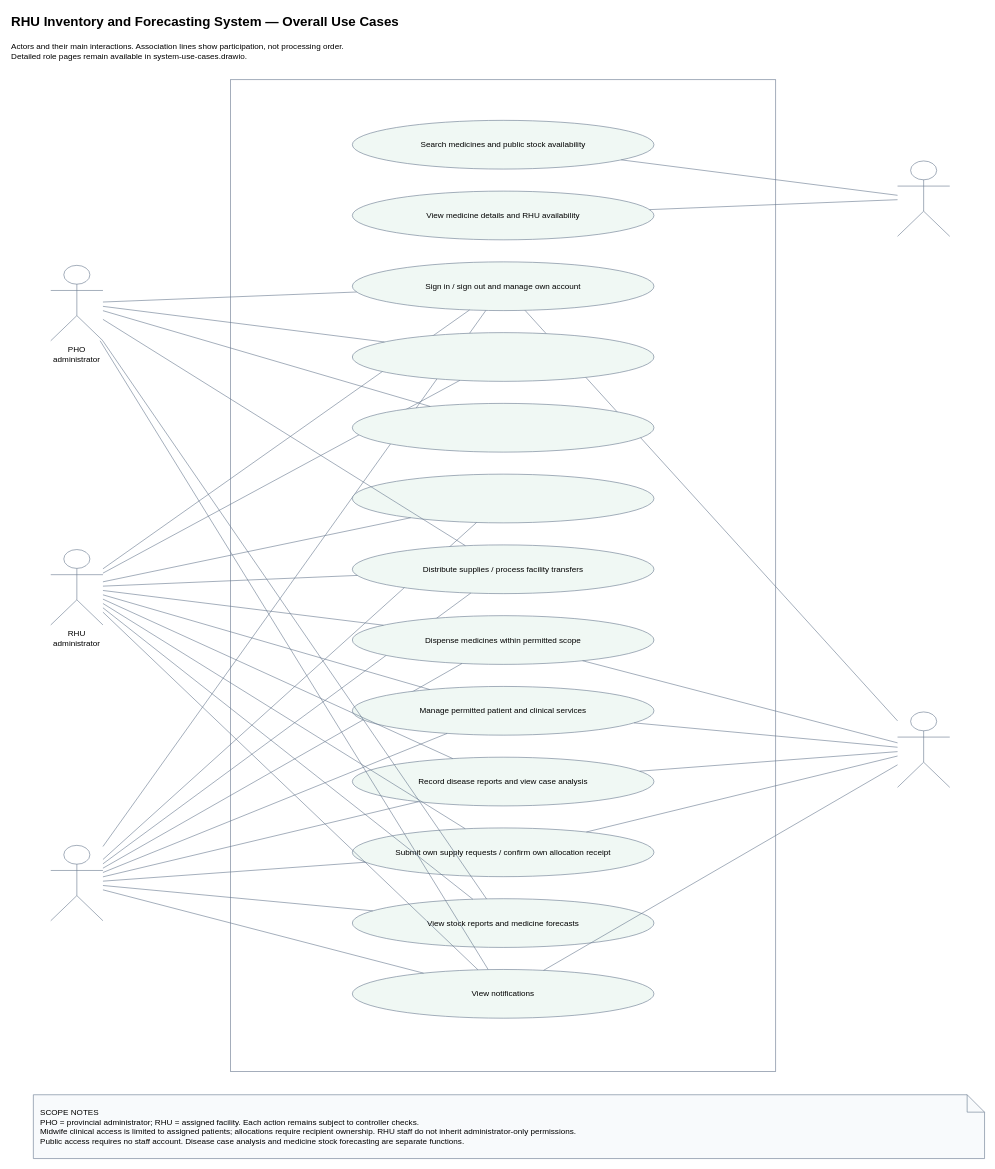
Image size: 995x1169. Some labels were removed from this diagram. Each missing label, with the box of its shape:
Manage permitted user accounts: (352, 332, 654, 381)
Midwife: (897, 711, 950, 787)
Public visitor: (897, 160, 950, 236)
Receive DOH shipments into PHO stock: (352, 403, 654, 452)
Record RHU stock intake and view inventory: (352, 474, 654, 523)
RHU Inventory and Forecasting System: (230, 79, 776, 1072)
RHU staff: (50, 845, 103, 921)
